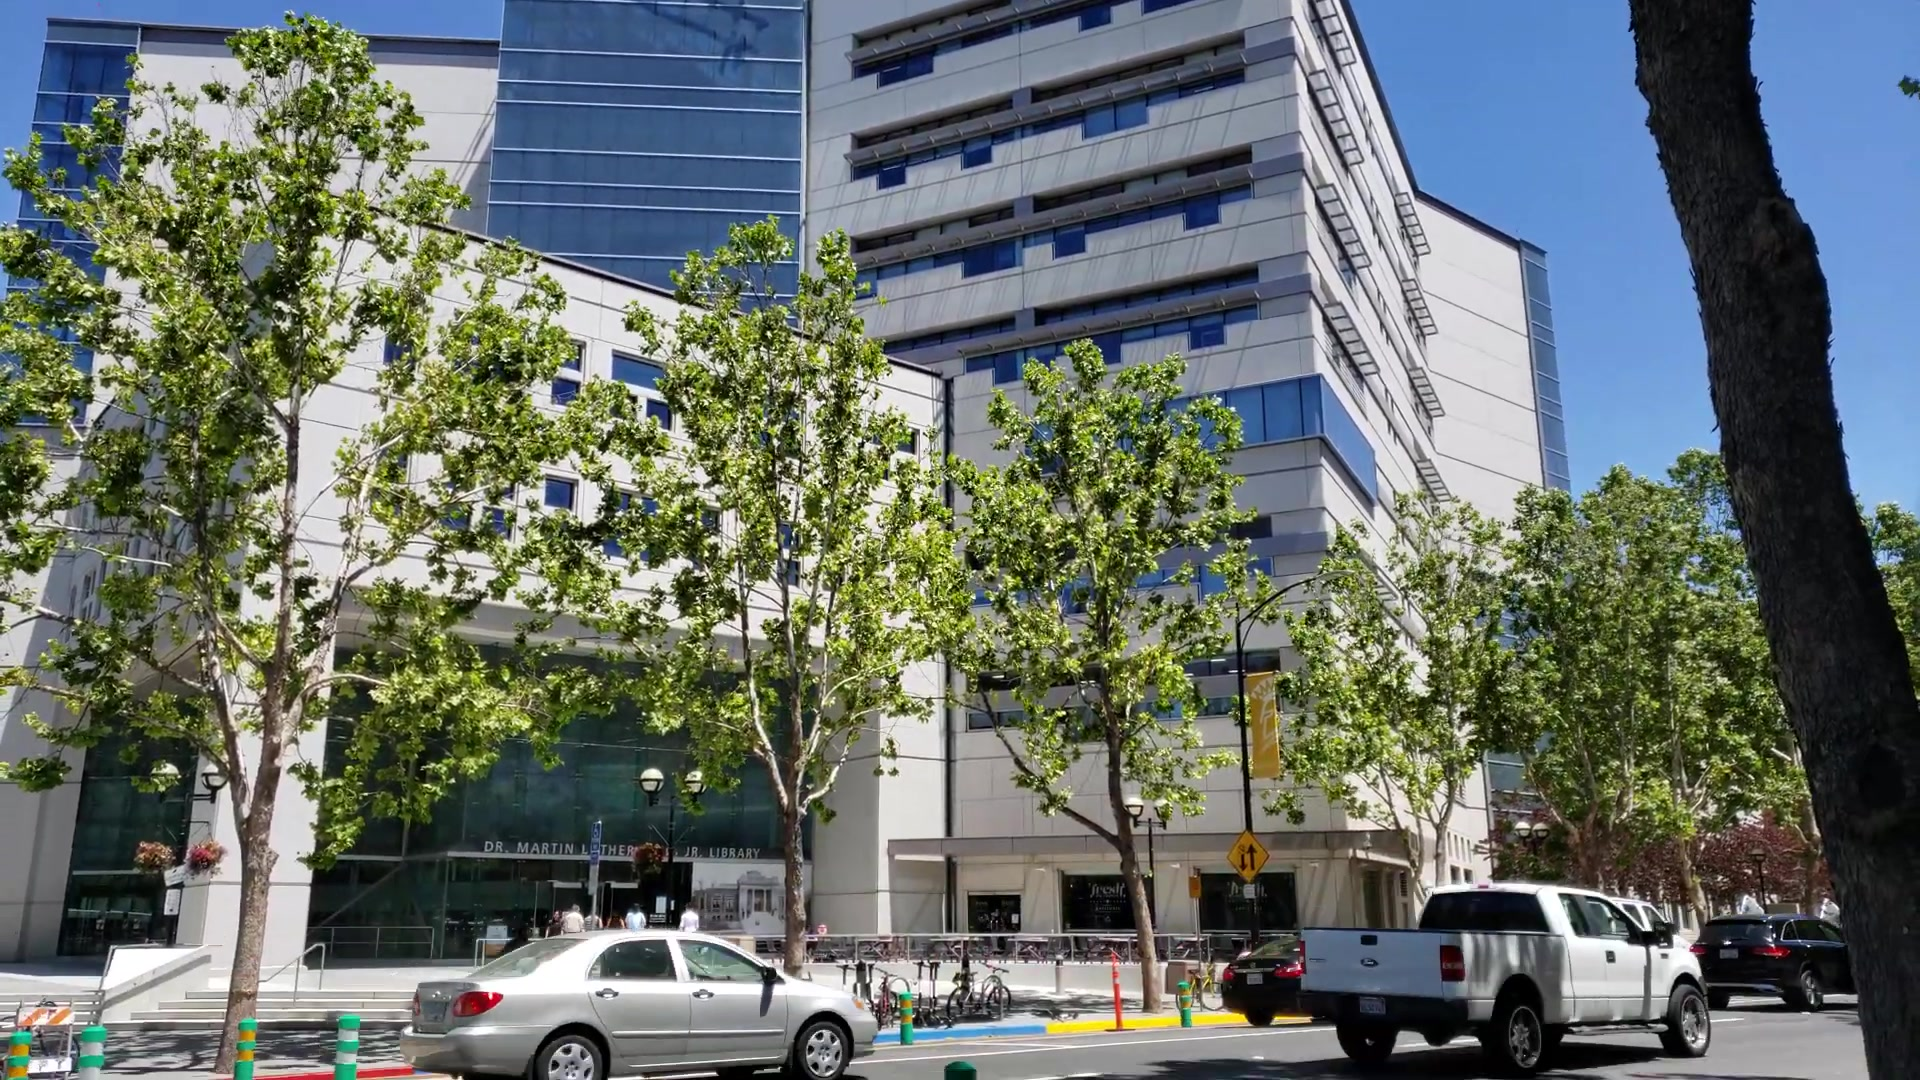vehicle: (1303, 885, 1712, 1073), (397, 926, 876, 1077)
